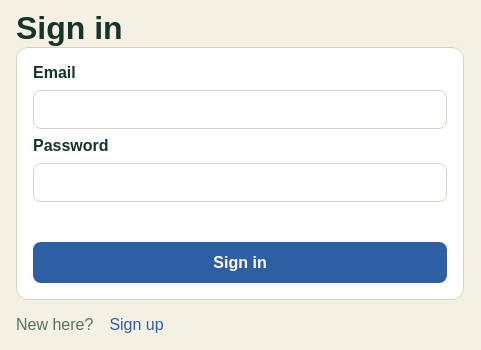
it: a wrong password shows the backend's refusal and goes nowhere
Type "dana@example.com" into the field labelled "Email".
click(240, 110); type("dana@example.com")  # box [33,90,447,129]
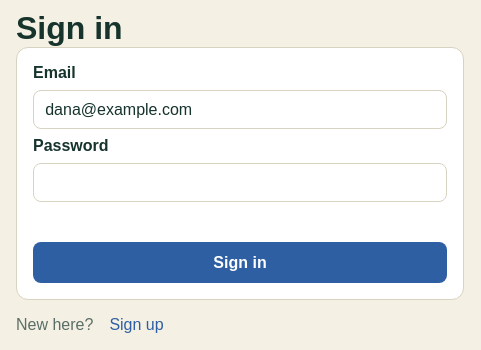
Type "wrong-wrong" into the password field labelled "Password".
click(240, 183); type("wrong-wrong")  # box [33,163,447,202]
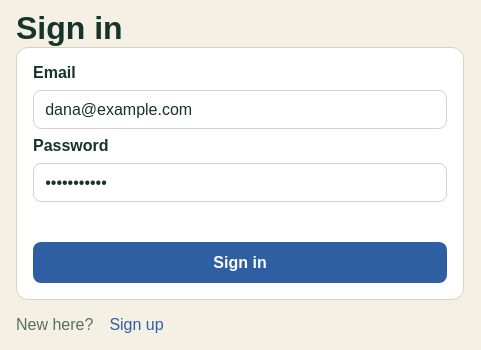
Click the button "Sign in".
click(240, 263)  # box [33,242,447,283]
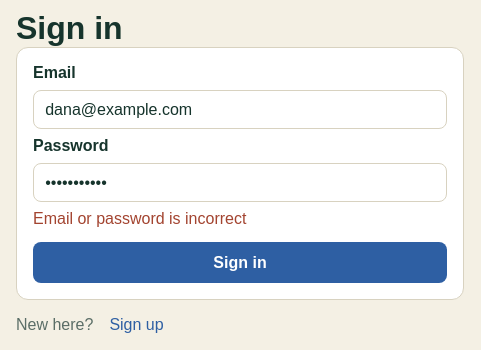
Expected: the text "Email or password is incorrect" is shown, [33,210,246,227]
